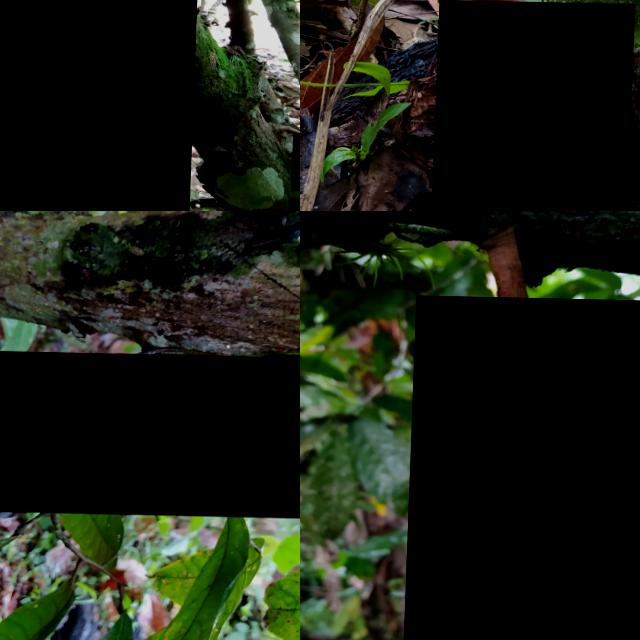Fitoftora: (0, 0, 208, 211)
Monilia: (405, 294, 640, 640), (0, 348, 300, 517), (435, 0, 637, 211)
Sana: (295, 129, 300, 188)
